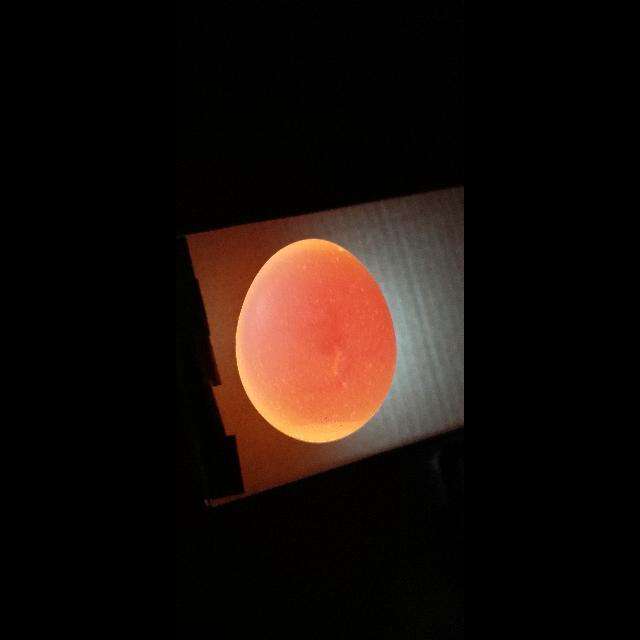Fertile: (228, 240, 402, 436)
